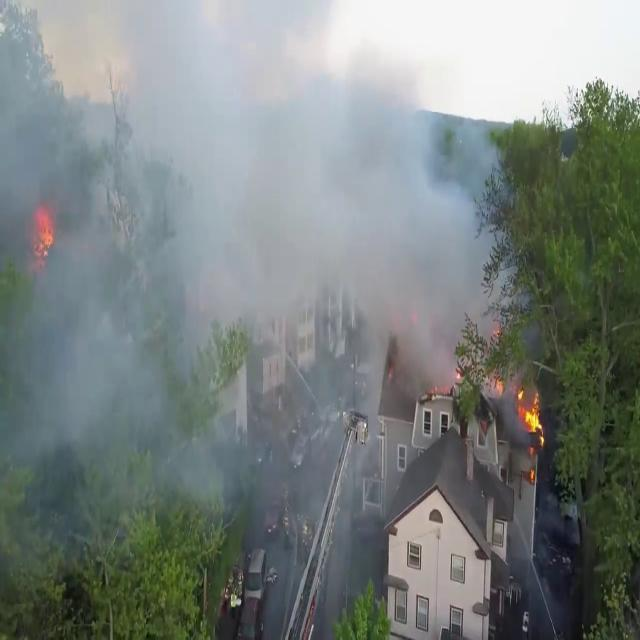Fire: (27, 190, 59, 271), (516, 383, 546, 445)
Smoke: (1, 0, 501, 509)
